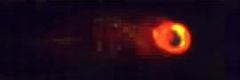keyhole: (167, 27, 184, 49)
